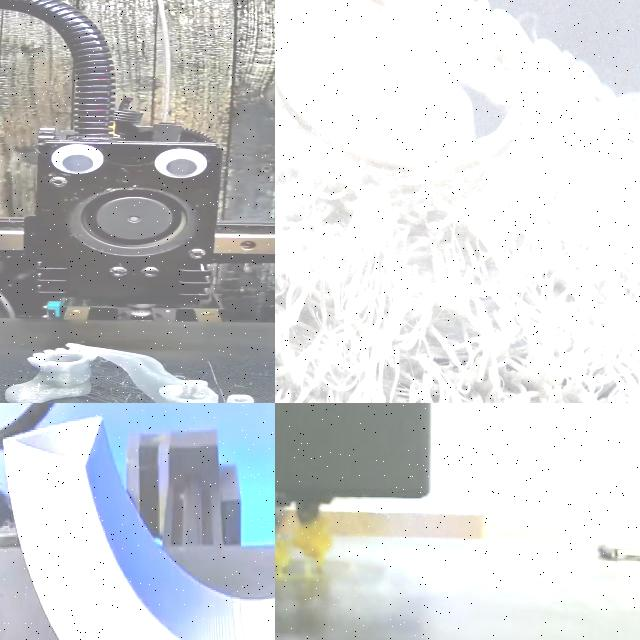spaghetti: (275, 0, 640, 403), (275, 512, 333, 573)
